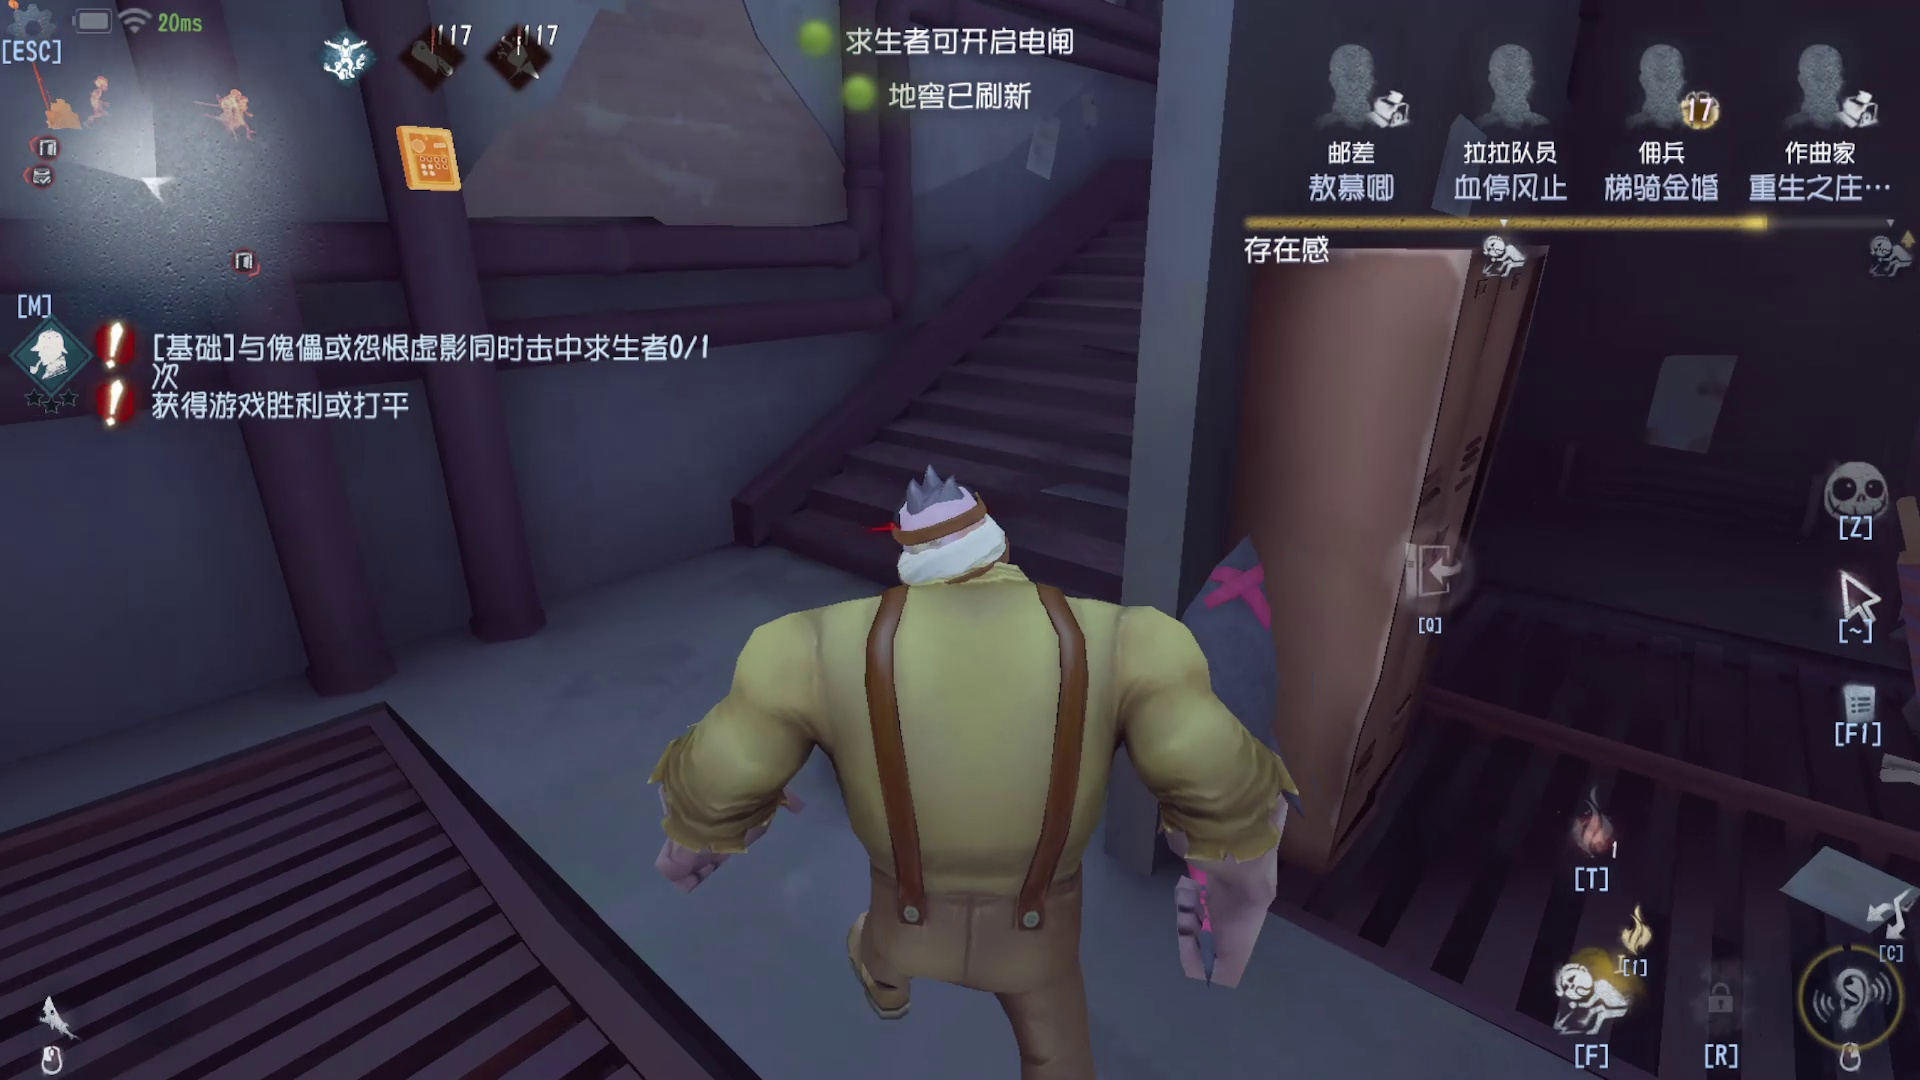设置: (1, 1, 88, 55)
